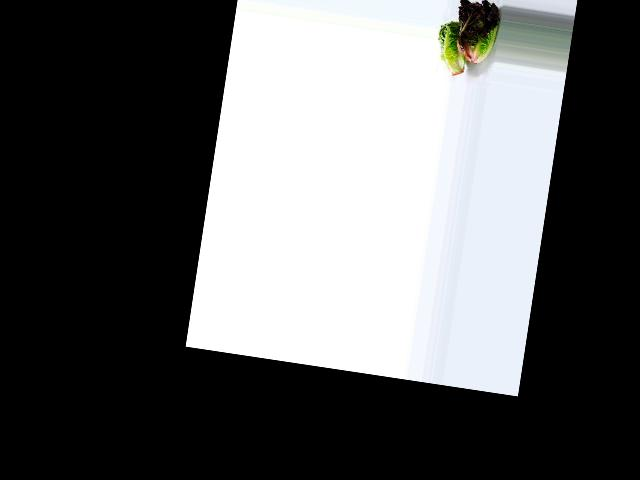lettuce: (432, 18, 473, 79)
